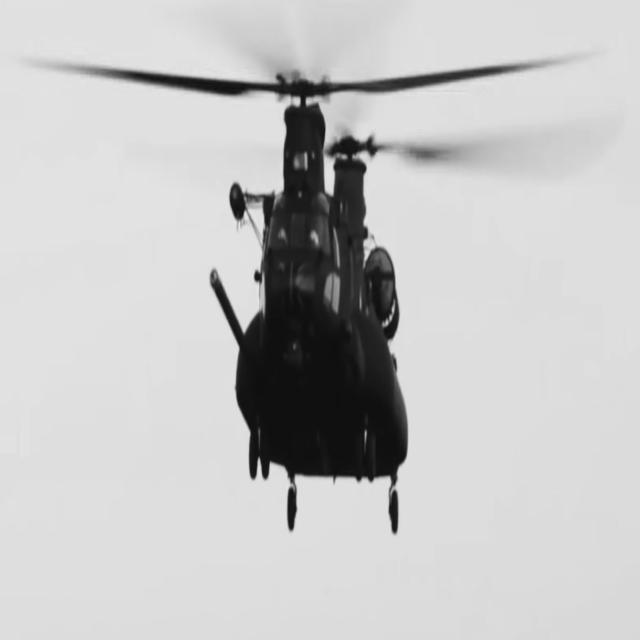Helicopter: (36, 55, 583, 532)
